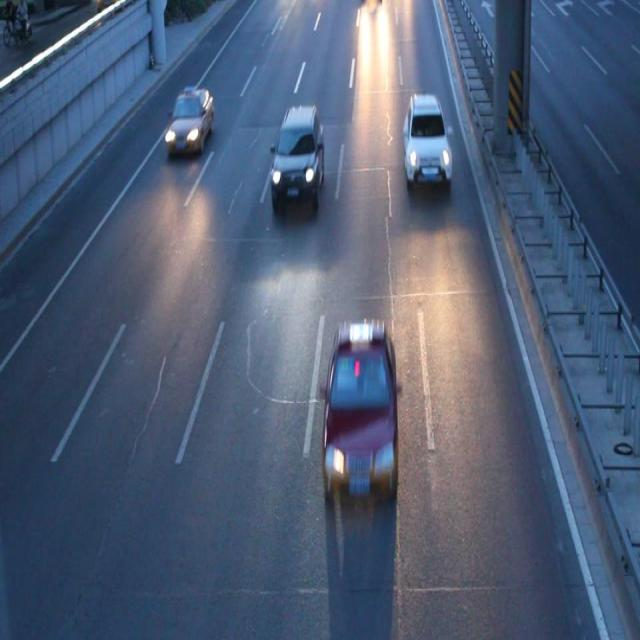car: (321, 323, 400, 503), (268, 104, 324, 210), (401, 94, 452, 190), (163, 87, 213, 154)
